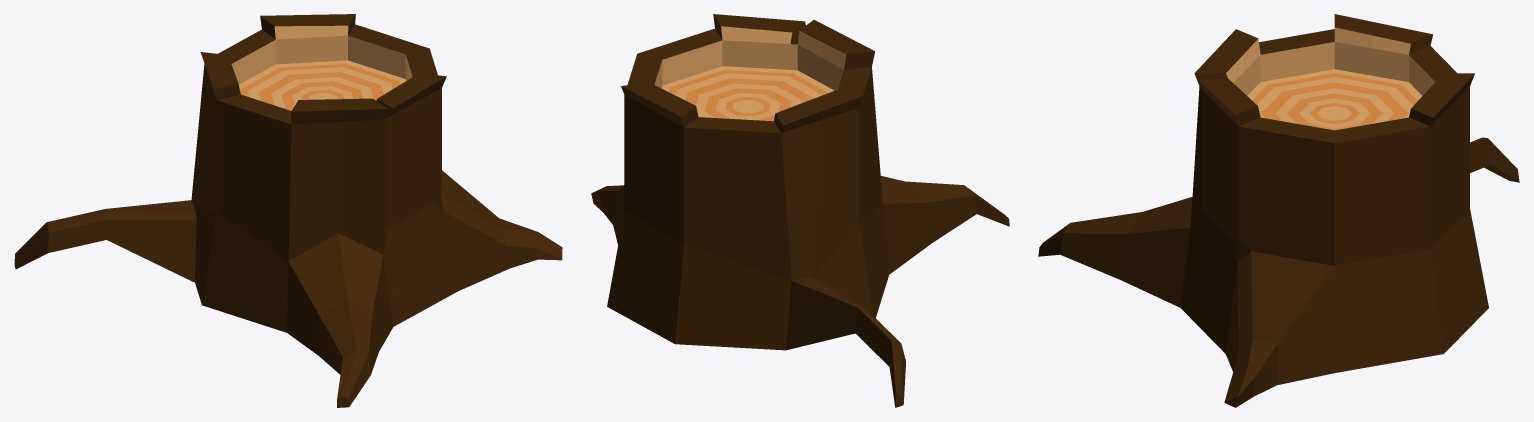
File: Stump.glb
The picture shows the model from 3 angles, left to right: view 1: azimuth 30°, elevation 25°; view 2: azimuth 150°, elevation 25°; view 3: azimuth 270°, elevation 25°; orthographic projection. The views are drawn at different scales.
Visible parts, largest first — view 1: Log; view 2: Log; view 3: Log.
Boxes of the visible parts, bbox=[...] form: Log: bbox=[14, 14, 562, 407]; Log: bbox=[591, 14, 1009, 407]; Log: bbox=[1038, 14, 1519, 407].
Size of the model in its own units: 0.2557 by 0.1283 by 0.2287.
